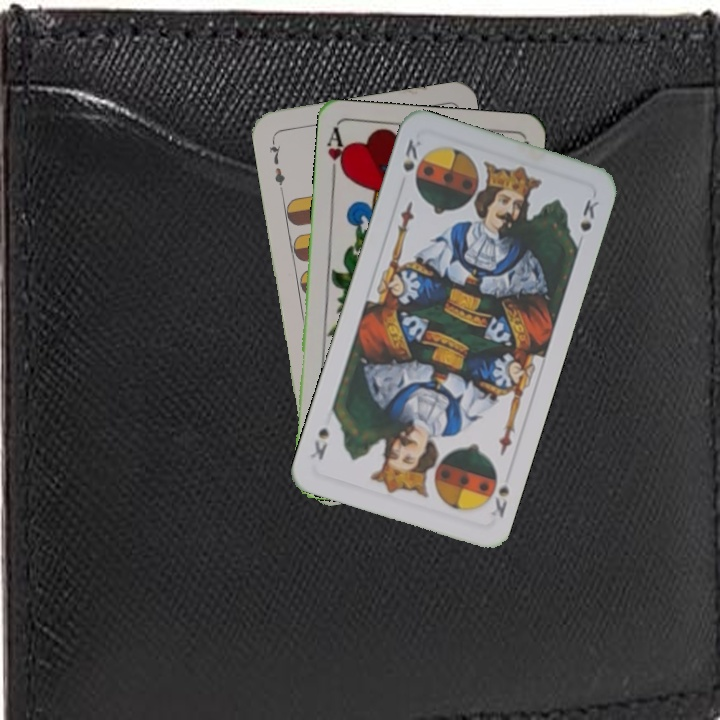E7: (265, 135, 288, 194)
HA: (323, 124, 350, 183)
SK: (486, 480, 512, 521), (398, 135, 424, 174)
